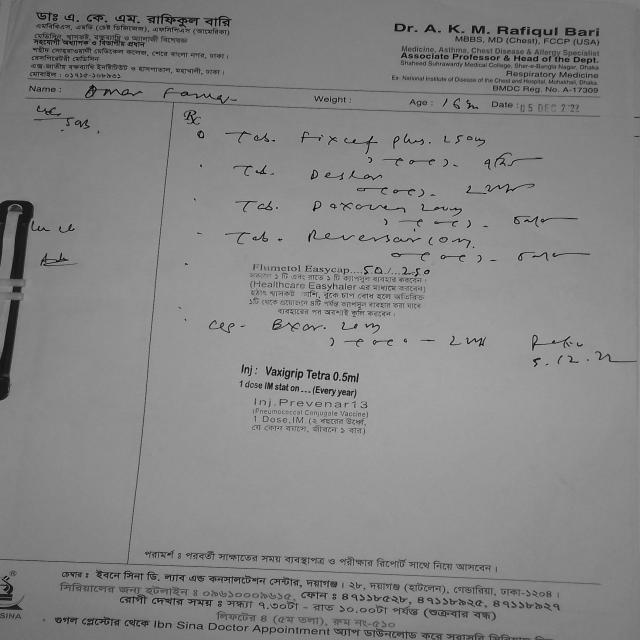medicine: (296, 125, 436, 154), (302, 224, 424, 250), (306, 197, 411, 217), (301, 165, 388, 187), (266, 317, 332, 335)
